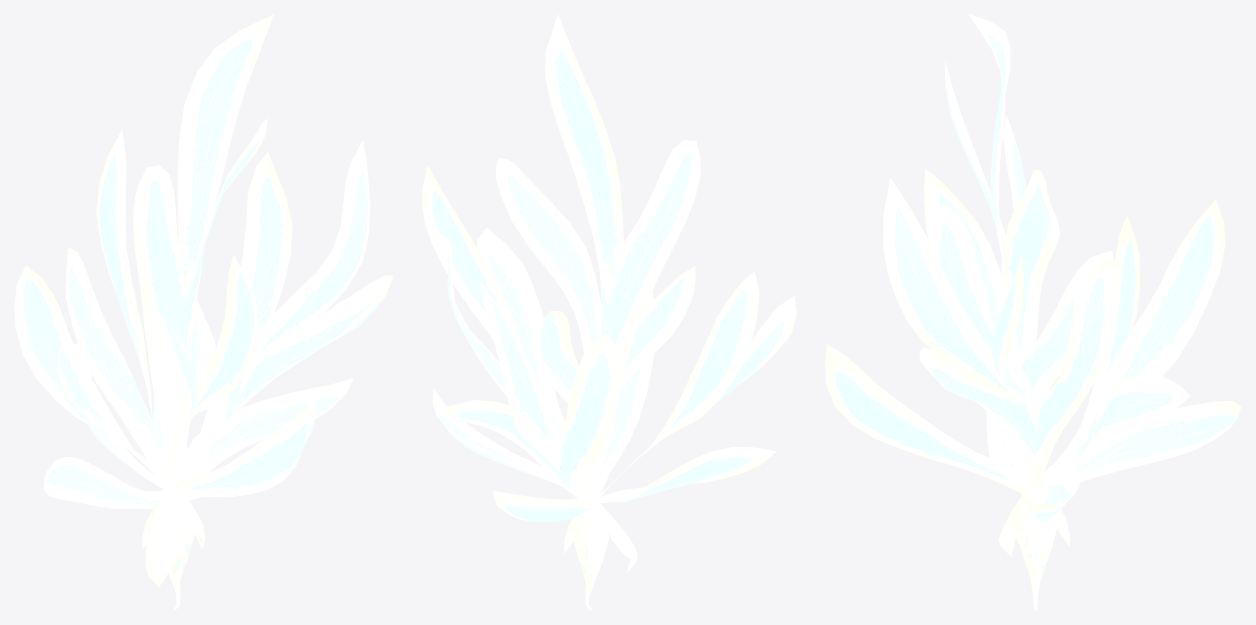
The picture shows the model from 3 angles, left to right: view 1: azimuth 30°, elevation 25°; view 2: azimuth 150°, elevation 25°; view 3: azimuth 270°, elevation 25°; orthographic projection. The views are drawn at different scales.
Visible parts, largest first — view 1: SM_Harralander_LOD0; view 2: SM_Harralander_LOD0; view 3: SM_Harralander_LOD0.
Boxes of the visible parts, x1,y1,x2,y2 form: SM_Harralander_LOD0: (14, 14, 393, 610); SM_Harralander_LOD0: (422, 14, 796, 610); SM_Harralander_LOD0: (825, 14, 1241, 610).
Size of the model in its own units: 0.5807 by 0.9353 by 0.5589.
Materials: 1 (1 with a texture image).
